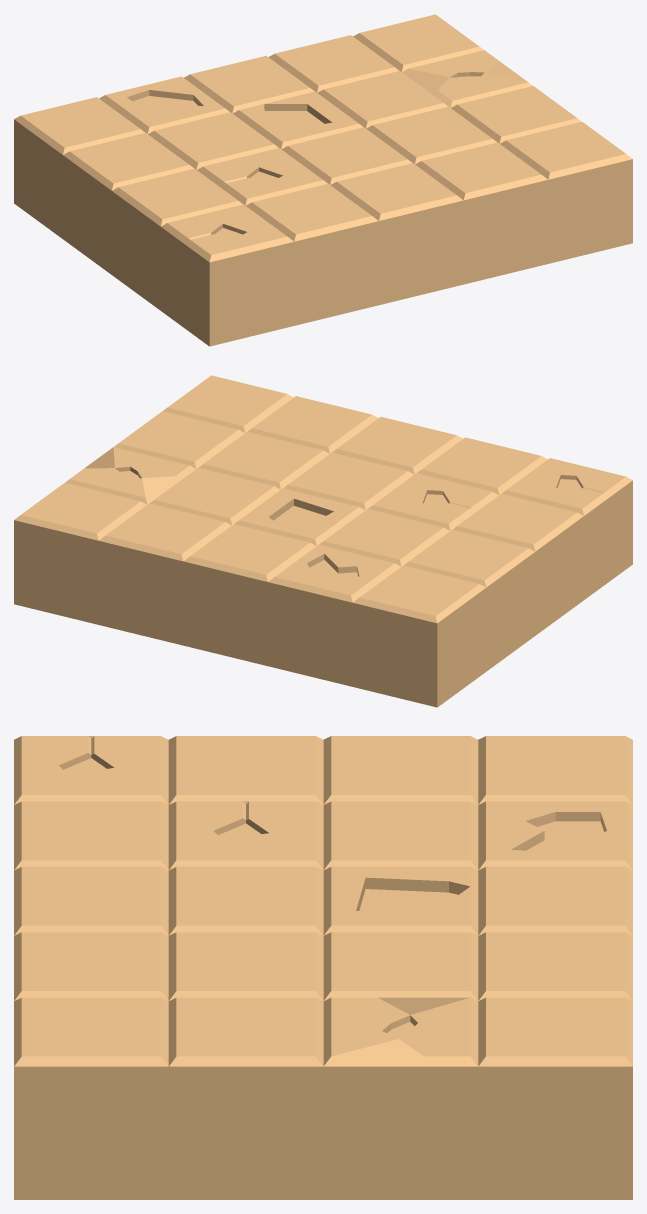
Rendered from 5x4 Floor.fbx.
3 views of the same model, one above another, from view 1: azimuth 30°, elevation 25°; view 2: azimuth 150°, elevation 25°; view 3: azimuth 270°, elevation 25° (orthographic). The views are drawn at different scales.
Parts seen in each view (by area): view 1: Cube; view 2: Cube; view 3: Cube.
Part boxes in pixels (bbox=[...]): Cube: bbox=[14, 14, 632, 346]; Cube: bbox=[14, 375, 632, 707]; Cube: bbox=[14, 736, 632, 1199].
Size of the model in its own units: 500 by 100 by 400.
